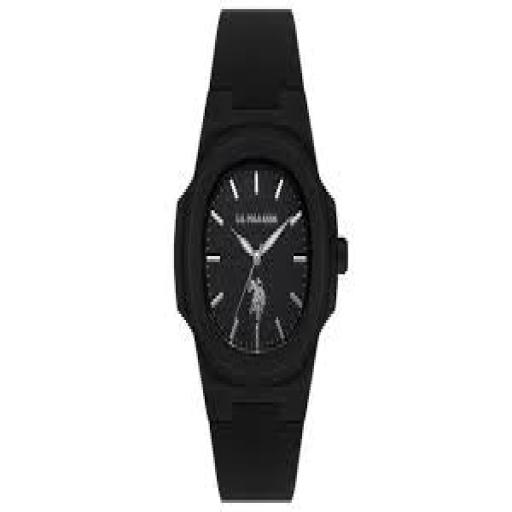KolSaati: (172, 2, 350, 508)
